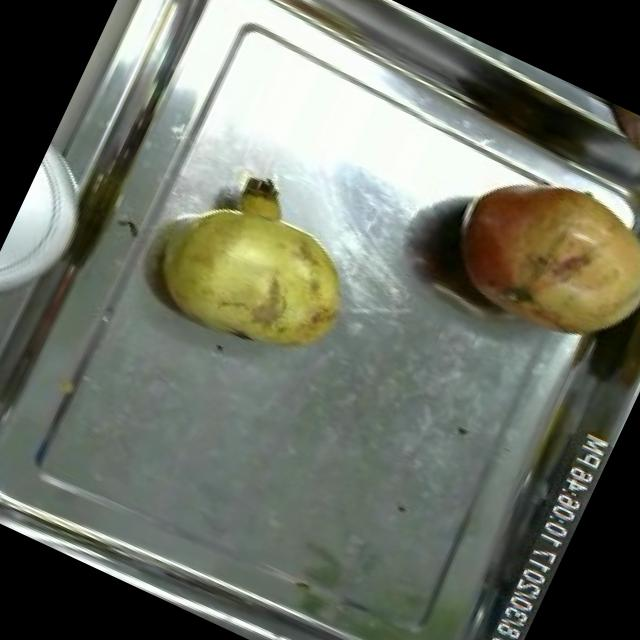fruit: (128, 151, 388, 389), (420, 136, 640, 372), (580, 95, 640, 170)
